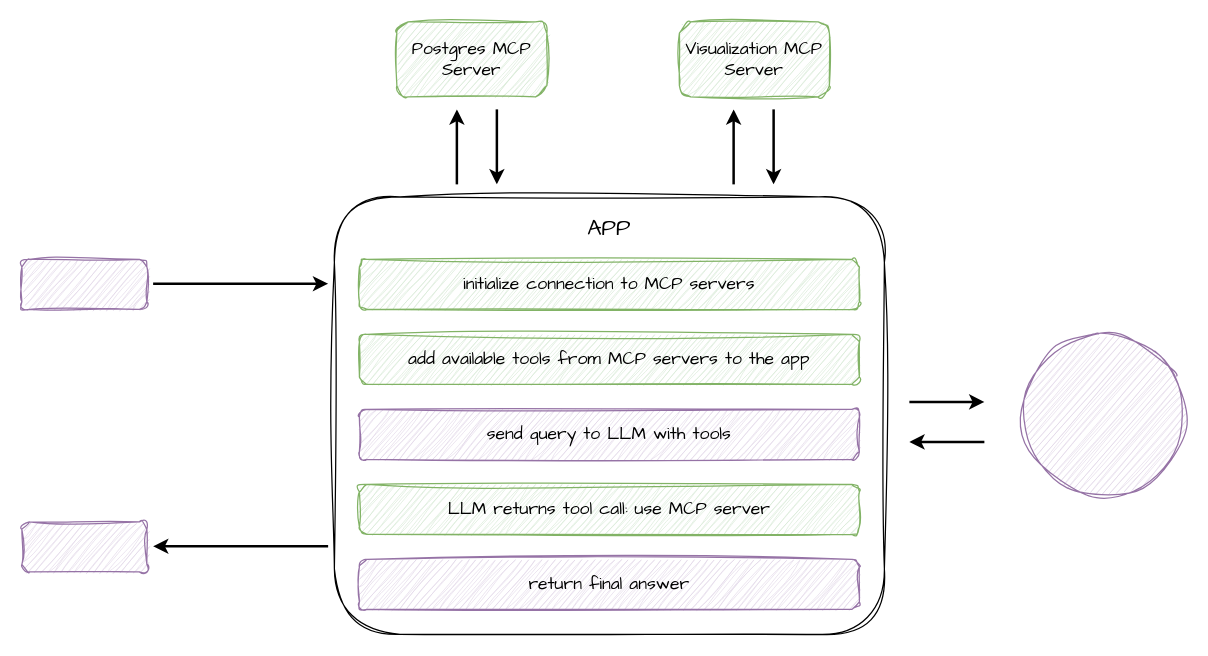
Image size: 1208x656. Some labels were removed from this diagram. Here are the shapes that lost their labels. From the top down, the centre of each, then its label:
At (x=84, y=283): "query".
At (x=1104, y=415): "LLM (Anthropic)".
At (x=84, y=546): "answer".
